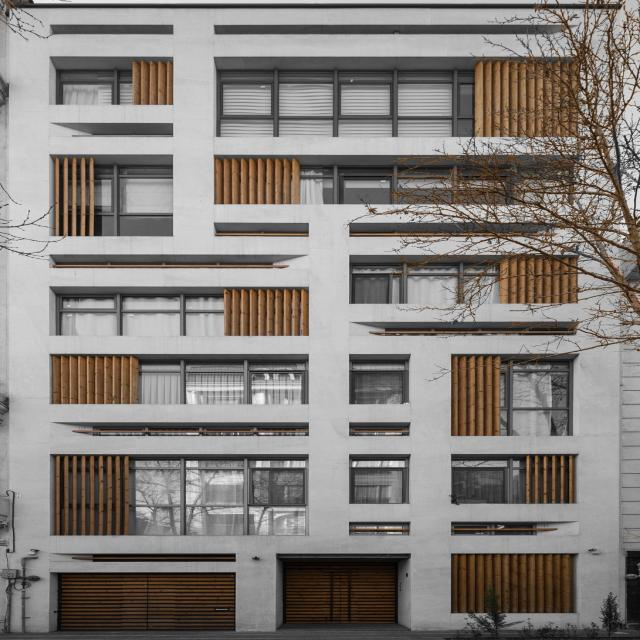door: (61, 572, 233, 632), (277, 558, 388, 620)
plant: (359, 0, 639, 341)
wall: (13, 5, 628, 637)
windows: (220, 66, 479, 136), (142, 458, 303, 532), (305, 163, 525, 203), (141, 358, 306, 405), (61, 293, 228, 333), (358, 263, 506, 302), (498, 360, 573, 436), (106, 163, 179, 235), (453, 457, 526, 501), (65, 68, 140, 103), (351, 458, 409, 502), (353, 359, 410, 403), (101, 426, 306, 436), (349, 521, 406, 534), (455, 524, 536, 533)
